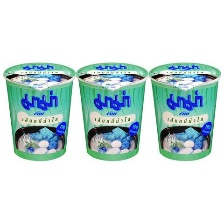paper_cup: (0, 55, 78, 163), (146, 57, 224, 164), (73, 56, 150, 164)
